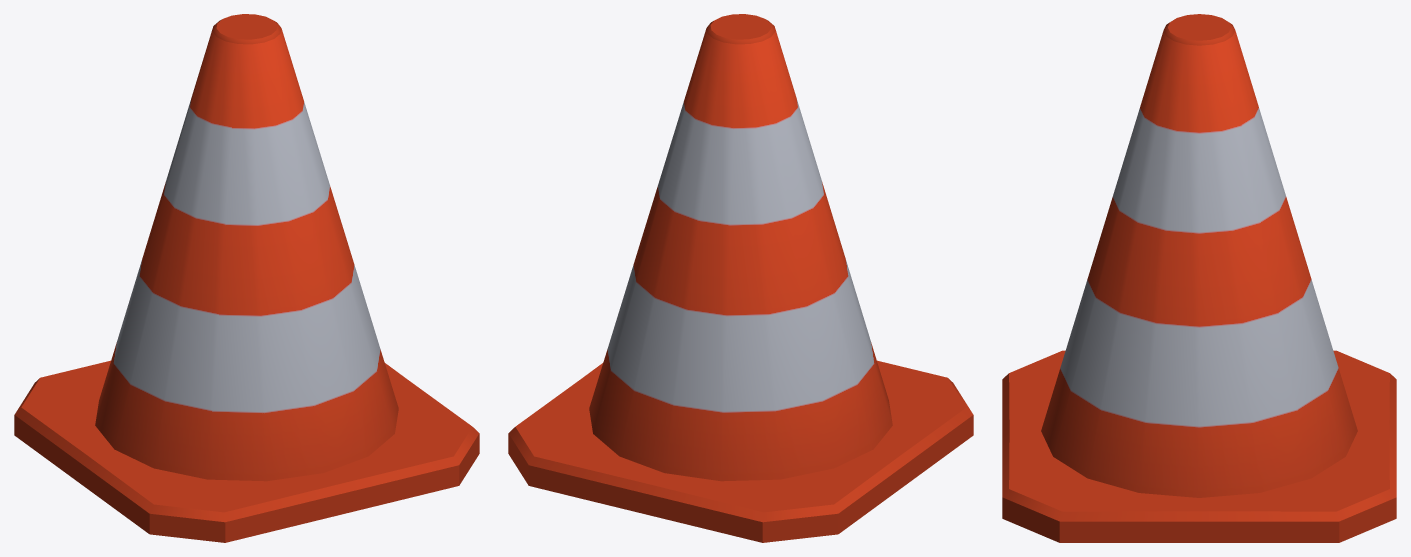
File: sm_roadcone.fbx
3 views of the same model, side by side, from view 1: azimuth 30°, elevation 25°; view 2: azimuth 150°, elevation 25°; view 3: azimuth 270°, elevation 25° (orthographic). The views are drawn at different scales.
Parts seen in each view (by area): view 1: sm_roadcone; view 2: sm_roadcone; view 3: sm_roadcone.
Boxes of the visible parts, x1=… form: sm_roadcone: x1=14, y1=14, x2=479, y2=542; sm_roadcone: x1=508, y1=14, x2=973, y2=542; sm_roadcone: x1=1002, y1=14, x2=1396, y2=542.
Bounding box in the file's own units: 0.4975 × 0.6021 × 0.4975.
Materials: 1 (1 with a texture image).
